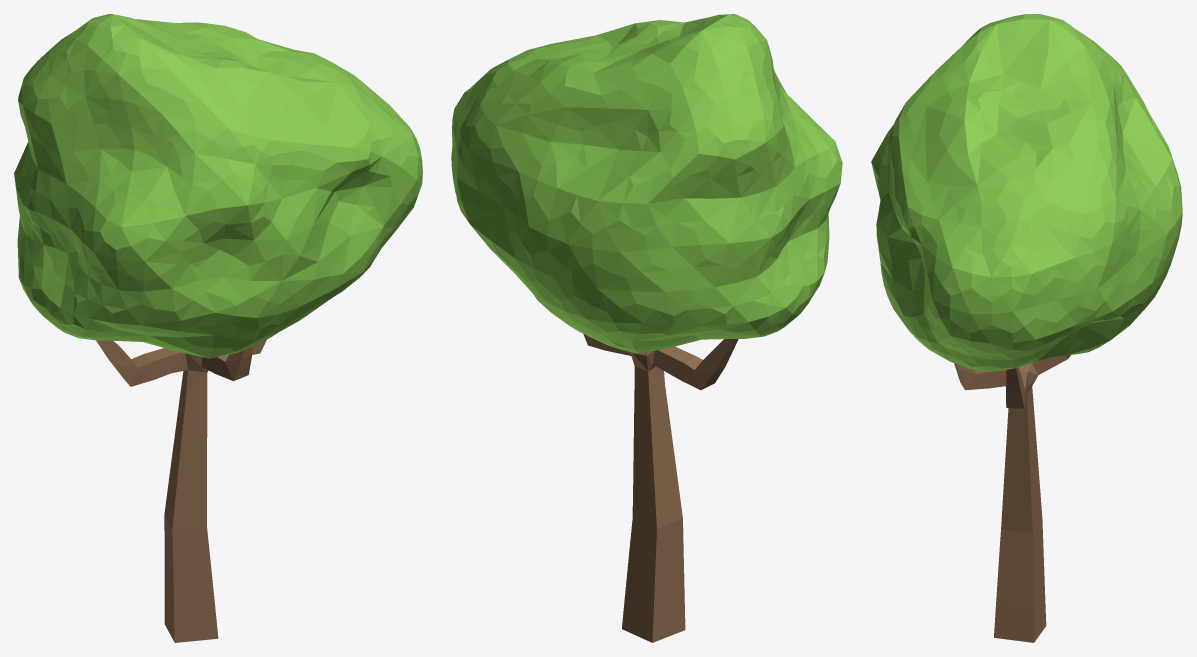
Rendered from tree06.fbx.
The picture shows the model from 3 angles, left to right: view 1: azimuth 30°, elevation 25°; view 2: azimuth 150°, elevation 25°; view 3: azimuth 270°, elevation 25°; orthographic projection. The views are drawn at different scales.
Visible parts, largest first — view 1: tree06_LOD0; view 2: tree06_LOD0; view 3: tree06_LOD0.
Boxes of the visible parts, x1,y1,x2,y2 form: tree06_LOD0: [14, 14, 422, 642]; tree06_LOD0: [451, 14, 842, 642]; tree06_LOD0: [871, 14, 1182, 642].
Size of what is drawn, in the model's own units: 406 by 677 by 328.
